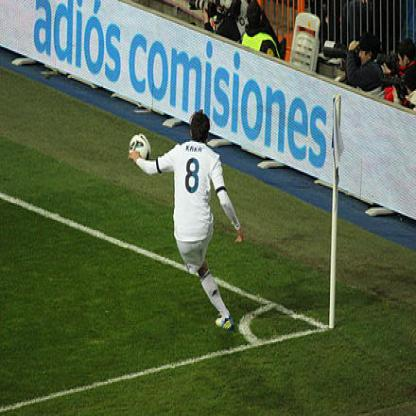corner kick: (114, 54, 372, 368)
